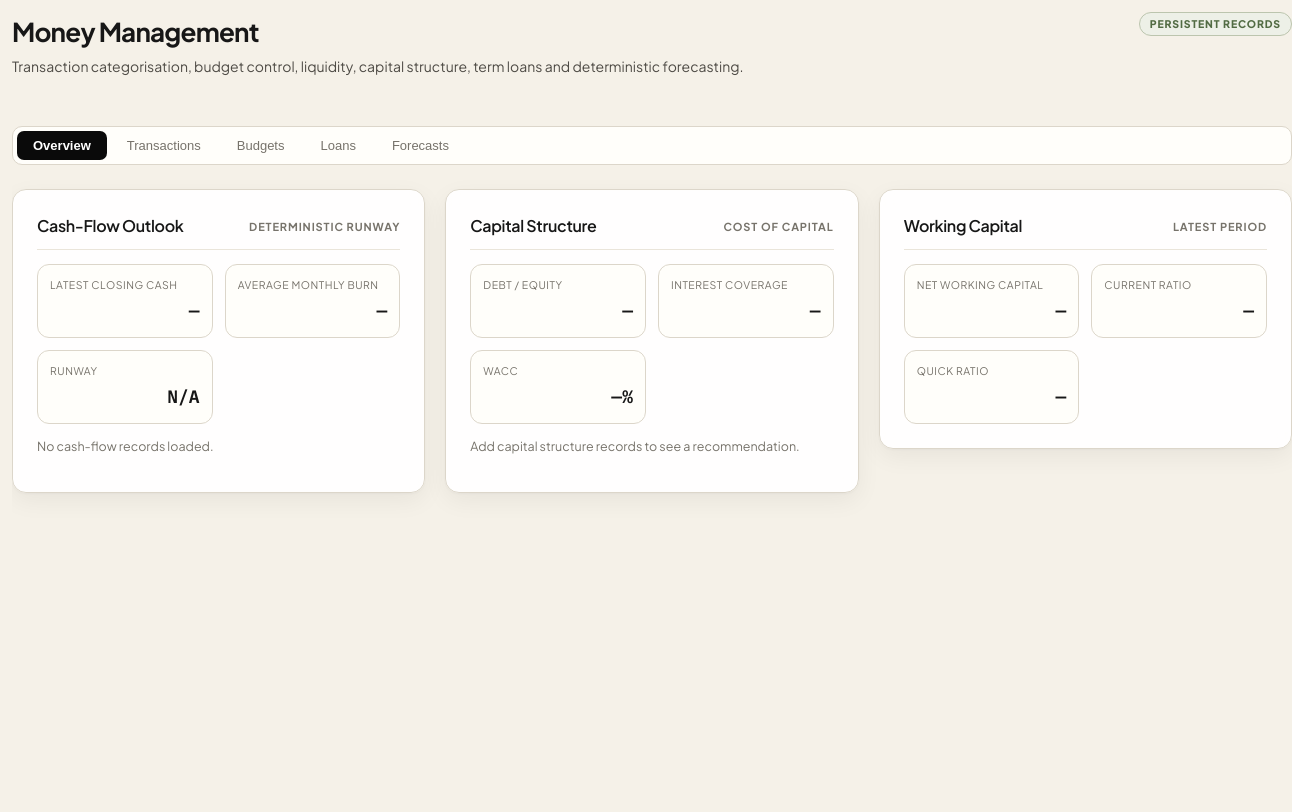
Phase 3 money management page › runs a deterministic business forecast and saves a scenario
Later steps or results of the test are not shown.
Expected: the element with test id "money-page" is shown, [12,12,1291,494]
Click the tab "Forecasts" at (420, 146), box [376,131,465,160]
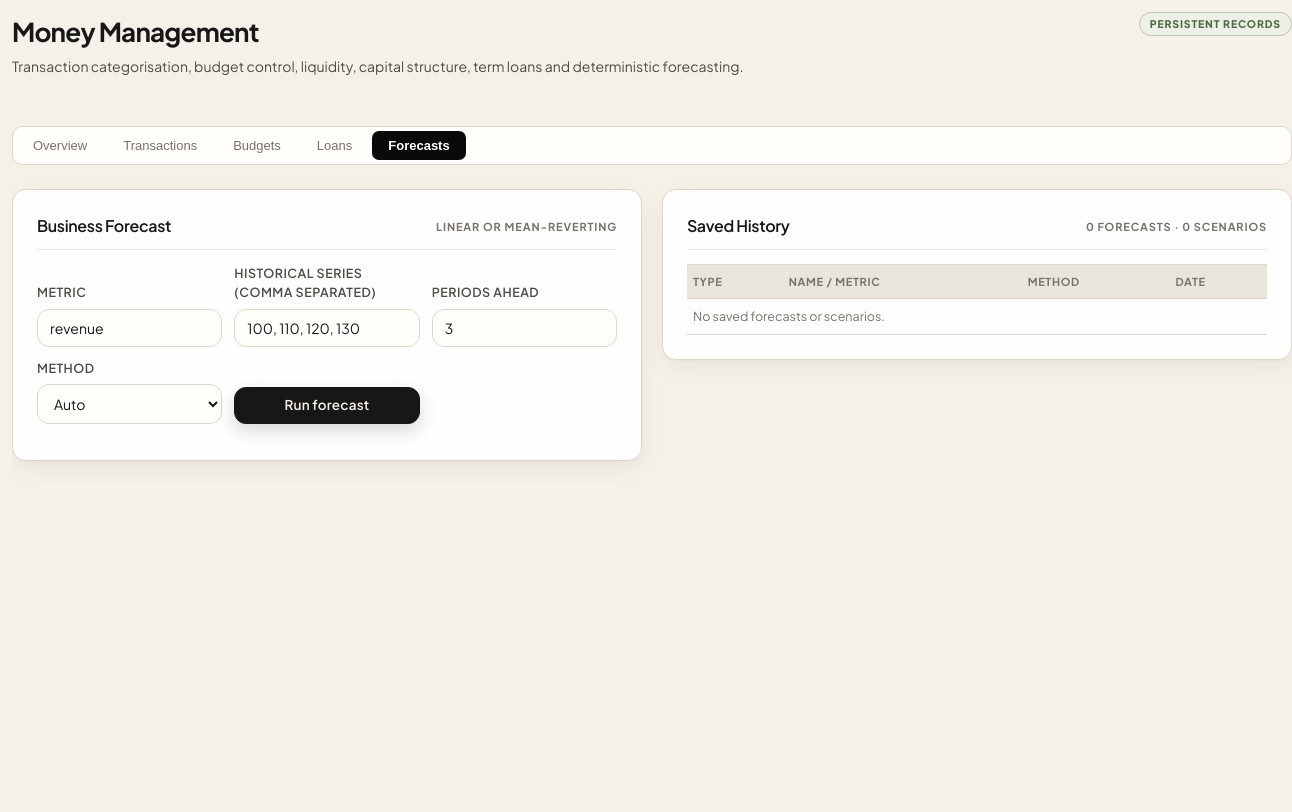
Click the button "Run forecast" at (327, 405), box [234,387,420,424]
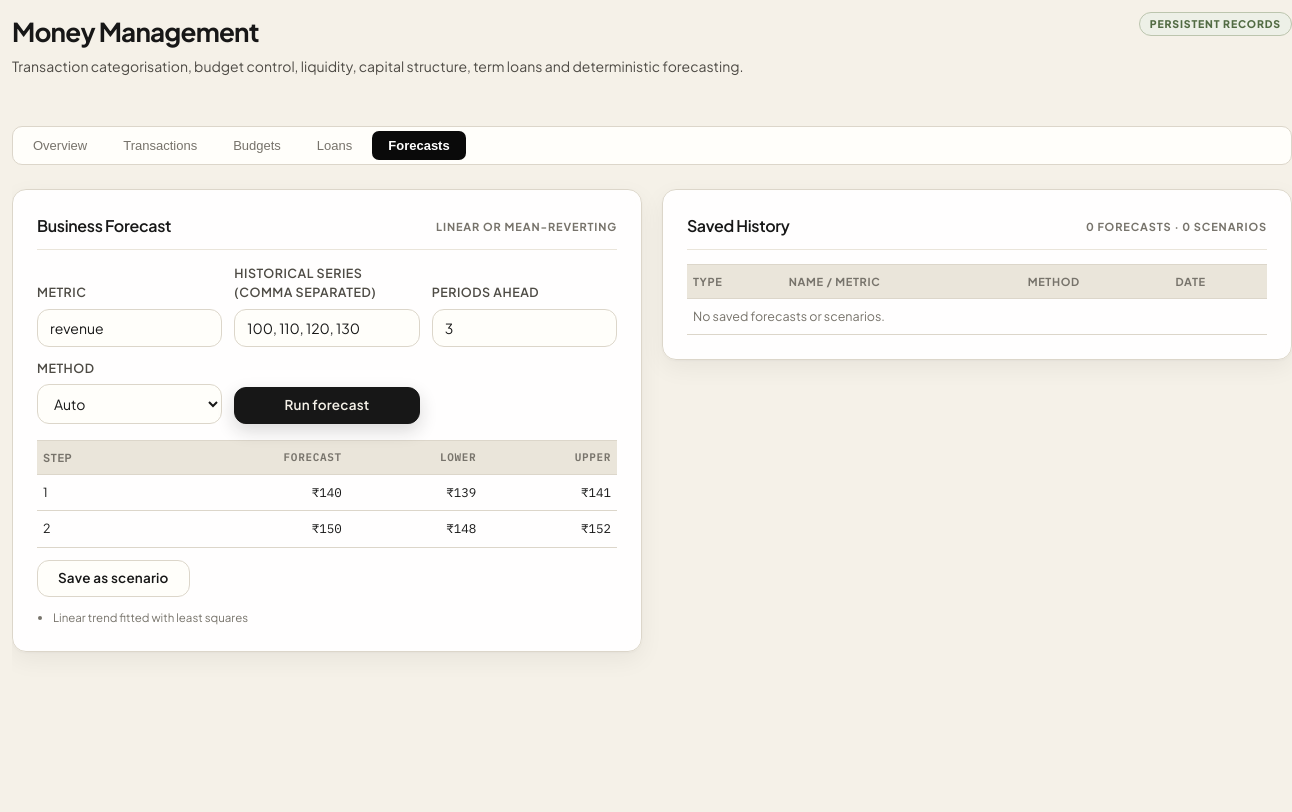
Expected: the text "₹140" is shown, [152,474,348,511]
